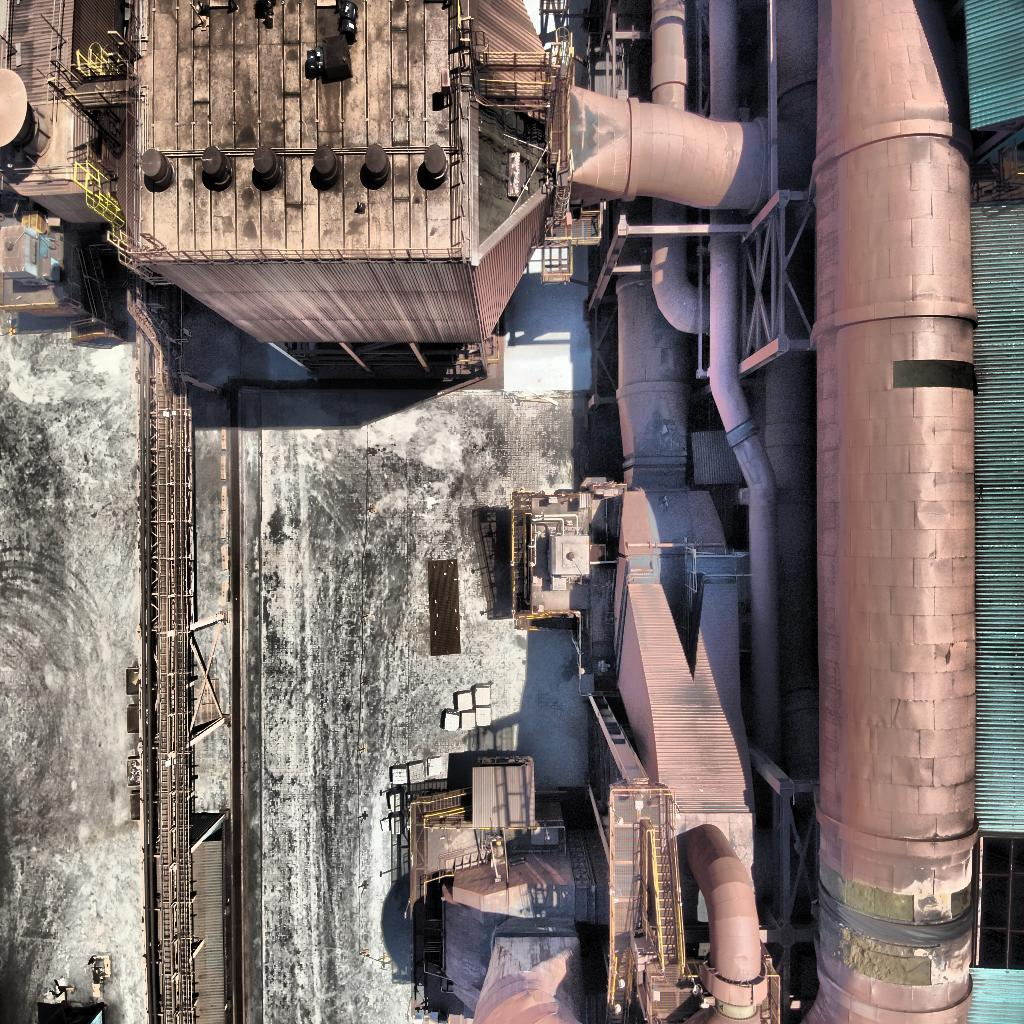Failures: (476, 91, 551, 249), (815, 864, 917, 930), (815, 936, 935, 987), (893, 358, 983, 400), (921, 877, 975, 922)
